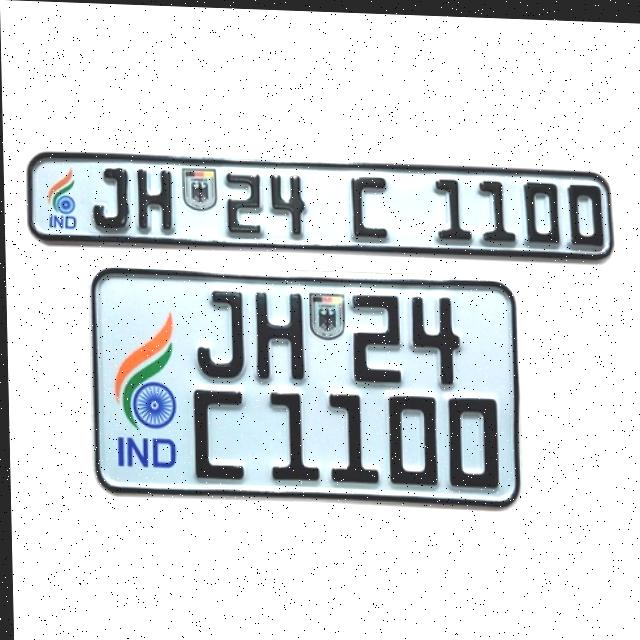plate: (80, 256, 527, 516), (26, 148, 617, 264)
